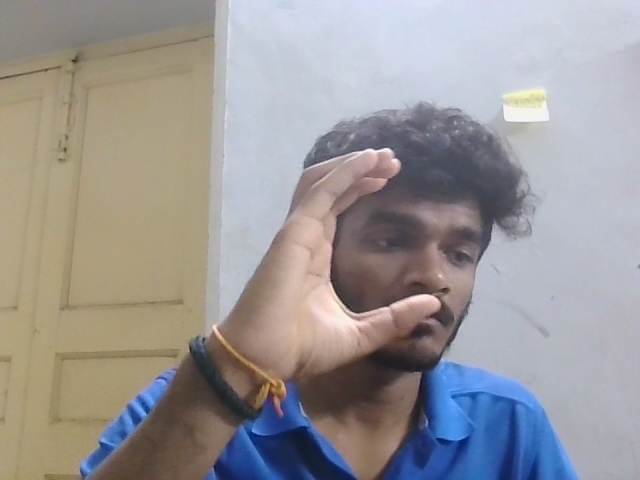No: (267, 130, 454, 376)
